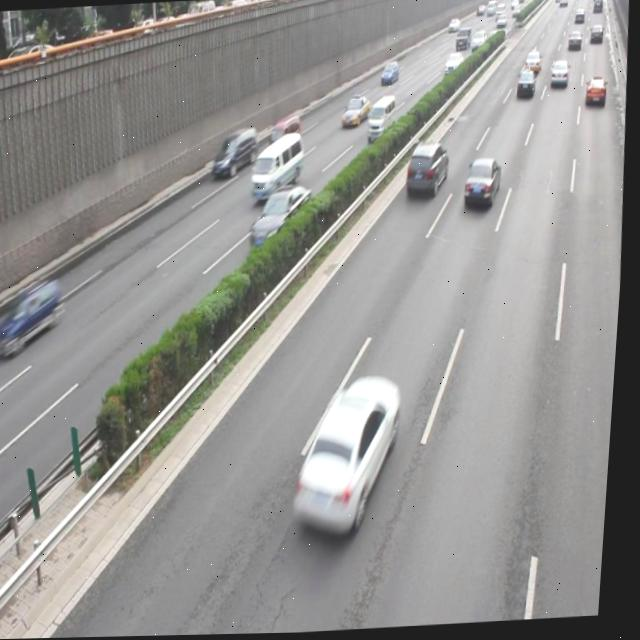car: (291, 376, 405, 538), (0, 276, 69, 355), (250, 185, 316, 253), (405, 142, 452, 198), (462, 157, 504, 213), (341, 96, 371, 128), (584, 77, 607, 110), (515, 70, 536, 100)
truck: (251, 133, 307, 202), (212, 127, 260, 178), (367, 97, 397, 143), (270, 115, 304, 153)
